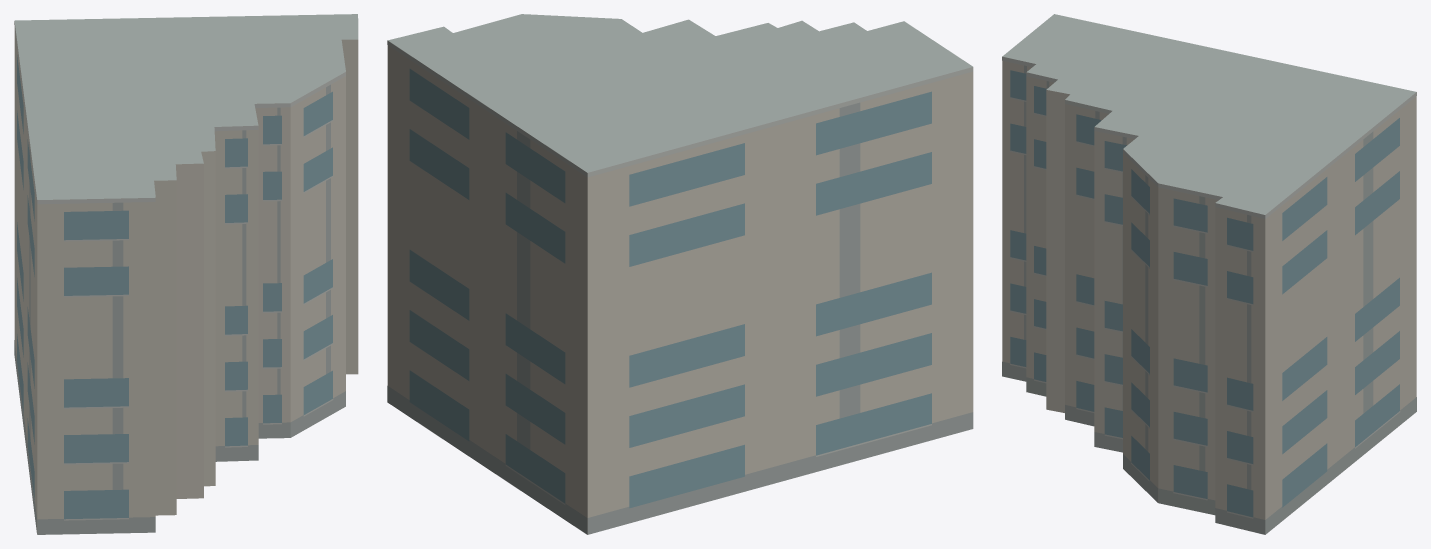
The model's file is survey-upis-32591234.glb.
The picture shows the model from 3 angles, left to right: view 1: azimuth 30°, elevation 25°; view 2: azimuth 150°, elevation 25°; view 3: azimuth 270°, elevation 25°; orthographic projection. The views are drawn at different scales.
Visible parts, largest first — view 1: survey-upis-32591234.tmp; view 2: survey-upis-32591234.tmp; view 3: survey-upis-32591234.tmp.
Part boxes in pixels (box(x1,y1,x2,y2)): survey-upis-32591234.tmp: box(14, 14, 358, 534); survey-upis-32591234.tmp: box(387, 14, 973, 534); survey-upis-32591234.tmp: box(1002, 14, 1416, 534).
Size of the model in its own units: 26.09 by 19.34 by 22.73.
